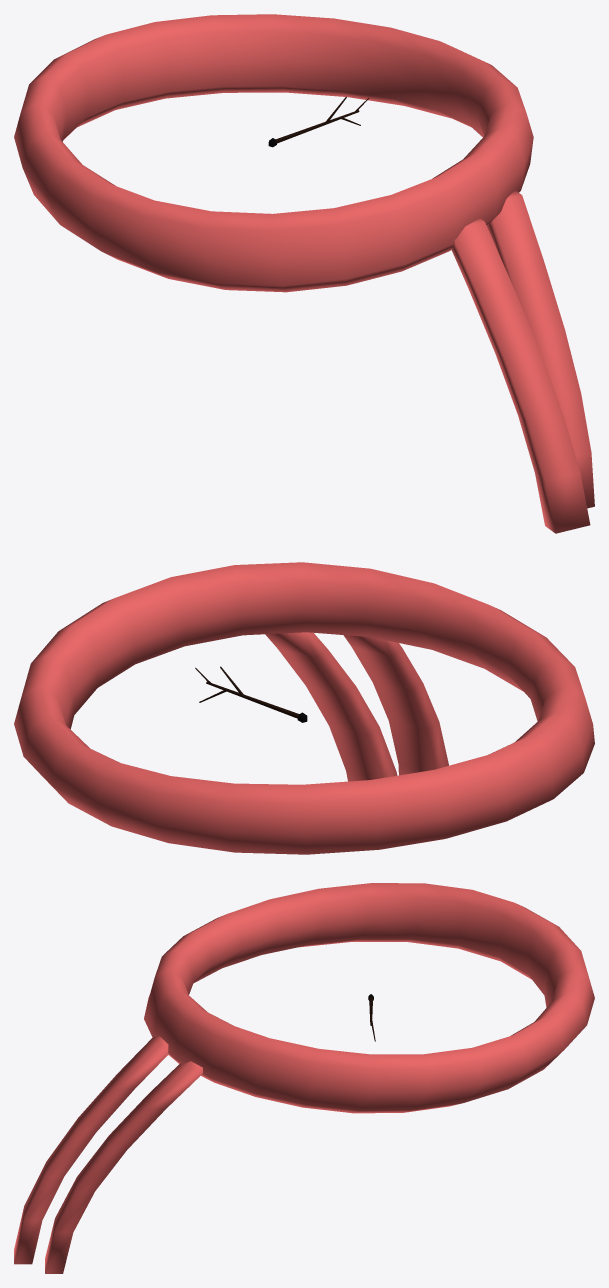
Rendered from snowman_parts.glb.
3 views of the same model, one above another, from view 1: azimuth 30°, elevation 25°; view 2: azimuth 150°, elevation 25°; view 3: azimuth 270°, elevation 25° (orthographic). The views are drawn at different scales.
Parts seen in each view (by area): view 1: Scarf; view 2: Scarf, StickArm; view 3: Scarf.
Part boxes in pixels (left/top/right/bottom): Scarf: left=14, top=14, right=594, bottom=533; Scarf: left=14, top=562, right=594, bottom=854; StickArm: left=195, top=666, right=299, bottom=718; Scarf: left=14, top=883, right=594, bottom=1273.
Bounding box in the file's own units: 2.2 × 1.39 × 2.87.
